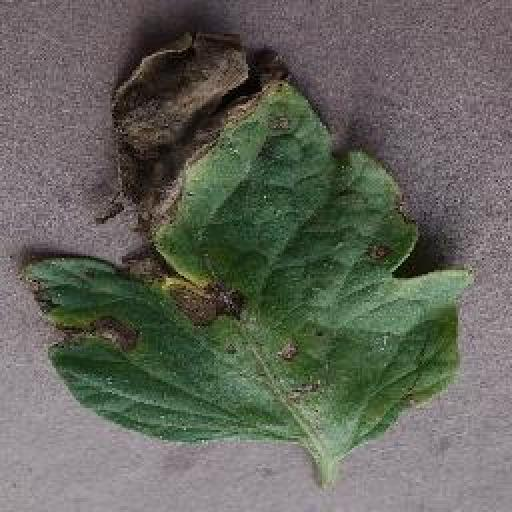Early Blight: (19, 32, 474, 459)
